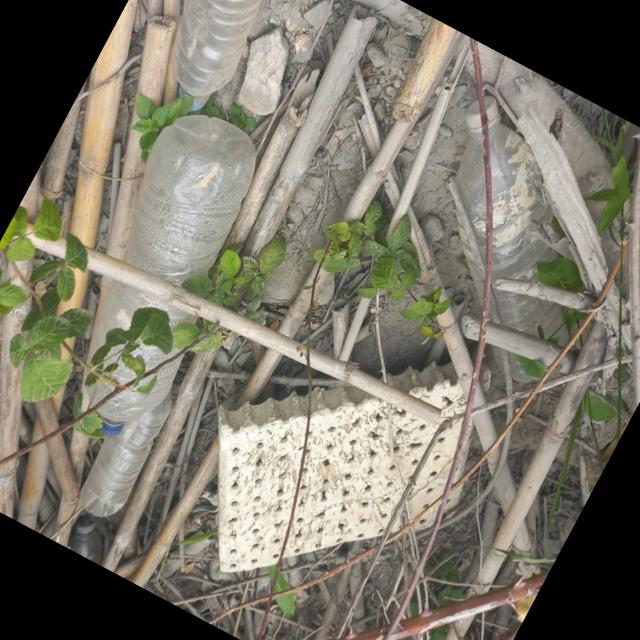Bottle: (79, 104, 263, 437), (450, 90, 576, 386), (73, 396, 168, 515), (166, 0, 263, 112), (64, 518, 100, 565)
Styrofoam piece: (216, 360, 477, 571)
